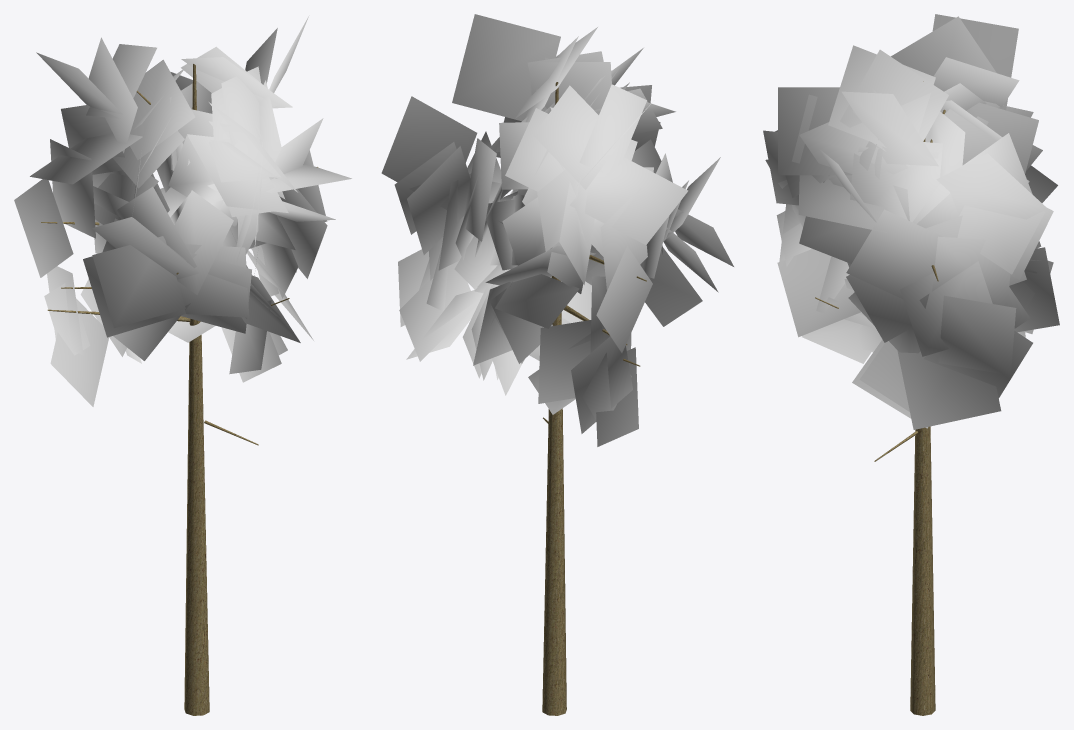
Rendered from long_leaf_pine_LOD2.fbx.
The picture shows the model from 3 angles, left to right: view 1: azimuth 30°, elevation 25°; view 2: azimuth 150°, elevation 25°; view 3: azimuth 270°, elevation 25°; orthographic projection. The views are drawn at different scales.
Parts seen in each view (by area): view 1: long_leaf_pine_LOD2; view 2: long_leaf_pine_LOD2; view 3: long_leaf_pine_LOD2.
Boxes of the visible parts, x1,y1,x2,y2 form: long_leaf_pine_LOD2: [14, 15, 351, 715]; long_leaf_pine_LOD2: [381, 14, 733, 715]; long_leaf_pine_LOD2: [763, 14, 1059, 715].
Bounding box in the file's own units: 641 × 1590 × 646.
